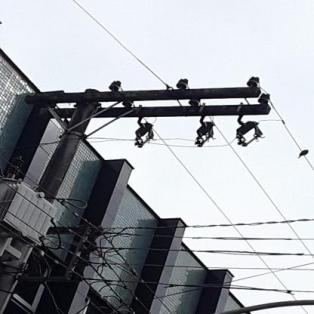Poste: (30, 87, 102, 196)
